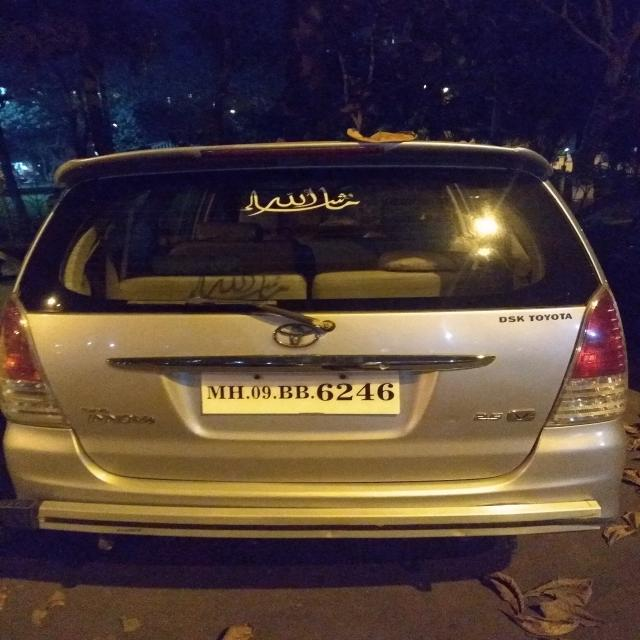Number-Plate: (204, 369, 400, 413)
